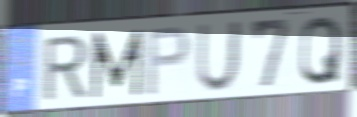7: (249, 17, 293, 91)
M: (90, 27, 145, 101)
P: (143, 23, 192, 98)
Q: (298, 13, 343, 88)
R: (41, 32, 90, 103)
U: (194, 18, 244, 94)
